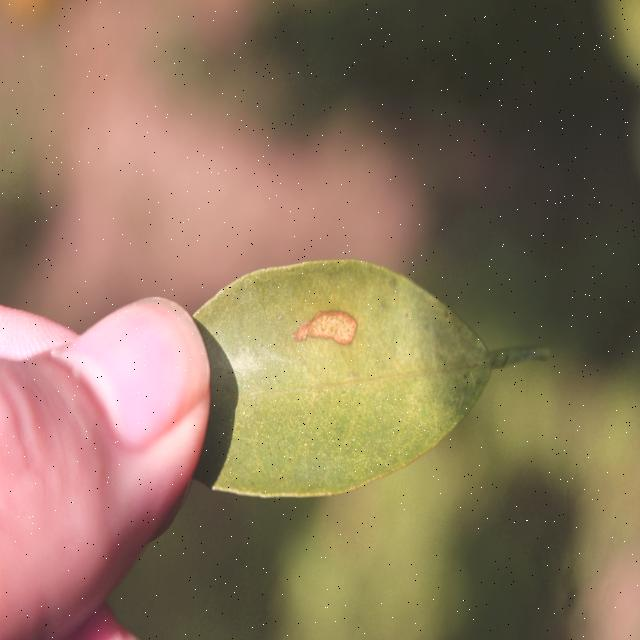canker: (271, 291, 371, 374)
